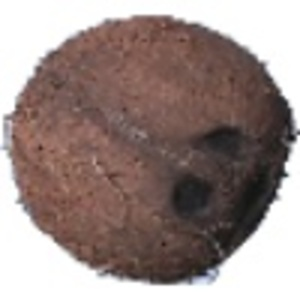coco: (1, 14, 300, 287)
